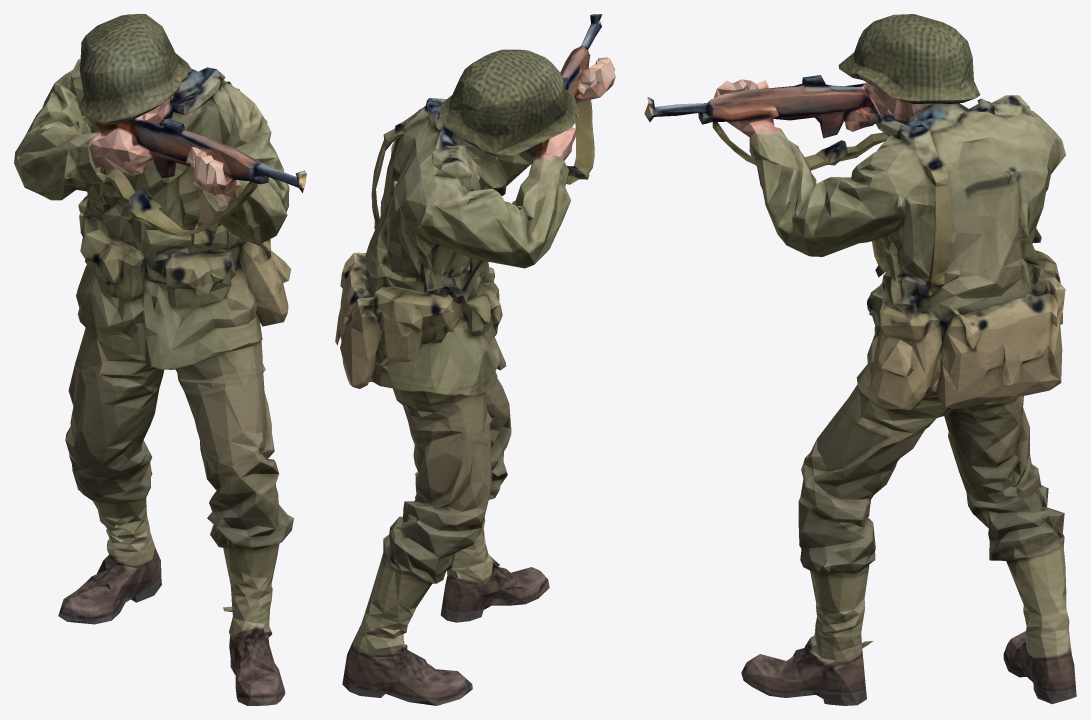
The model's file is ally_us_stand.obj.
3 renders of one model, left to right at view 1: azimuth 30°, elevation 25°; view 2: azimuth 150°, elevation 25°; view 3: azimuth 270°, elevation 25°, orthographic. The views are drawn at different scales.
Parts seen in each view (by area): view 1: ally_us_stand; view 2: ally_us_stand; view 3: ally_us_stand.
Boxes of the visible parts, <box> form: ally_us_stand: <box>14,14,306,705</box>; ally_us_stand: <box>335,14,615,705</box>; ally_us_stand: <box>644,14,1076,705</box>.
Bounding box in the file's own units: 0.6784 × 1.8 × 1.1.
1 material, 1 textured.
